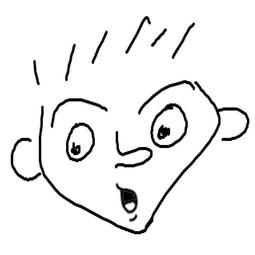ear: (206, 102, 253, 145), (7, 133, 45, 185)
eye: (151, 102, 189, 151), (60, 121, 99, 162)
eyebrow: (48, 94, 112, 129)
frowning_eyebrow: (138, 80, 195, 116)
nose: (107, 132, 153, 169)
open_mouth: (116, 186, 143, 217)
